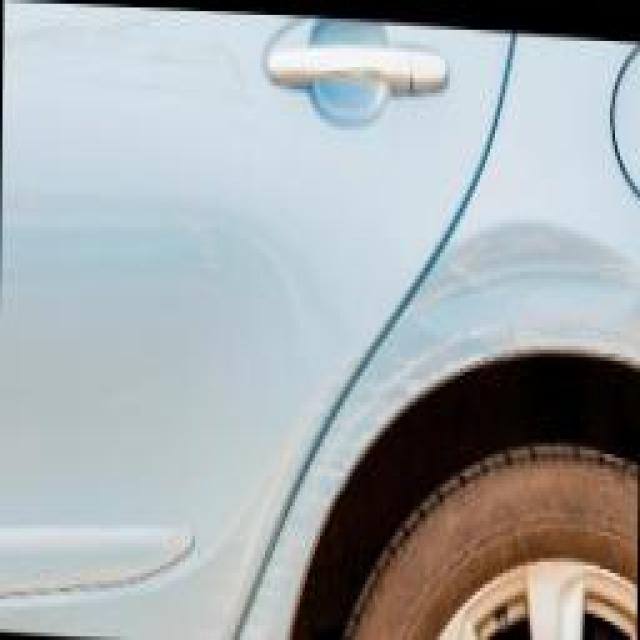Fender: (152, 191, 640, 640)
